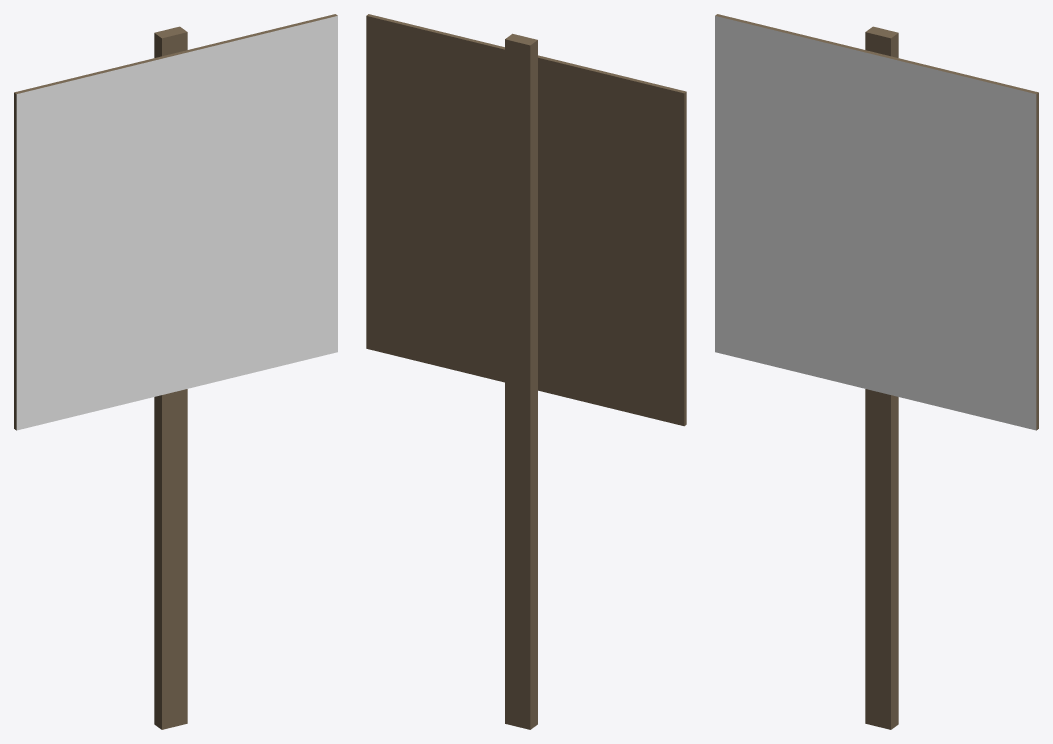
File: protest_sign_s.fbx
3 renders of one model, left to right at view 1: azimuth 30°, elevation 25°; view 2: azimuth 150°, elevation 25°; view 3: azimuth 330°, elevation 25°, orthographic.
Parts seen in each view (by area): view 1: SIGN-S; view 2: SIGN-S; view 3: SIGN-S.
Part boxes in pixels (<box>): SIGN-S: <box>14,14,337,729</box>; SIGN-S: <box>366,14,686,729</box>; SIGN-S: <box>715,14,1038,729</box>.
Size of the model in its own units: 50 by 103 by 2.73.
2 materials, 1 textured.
